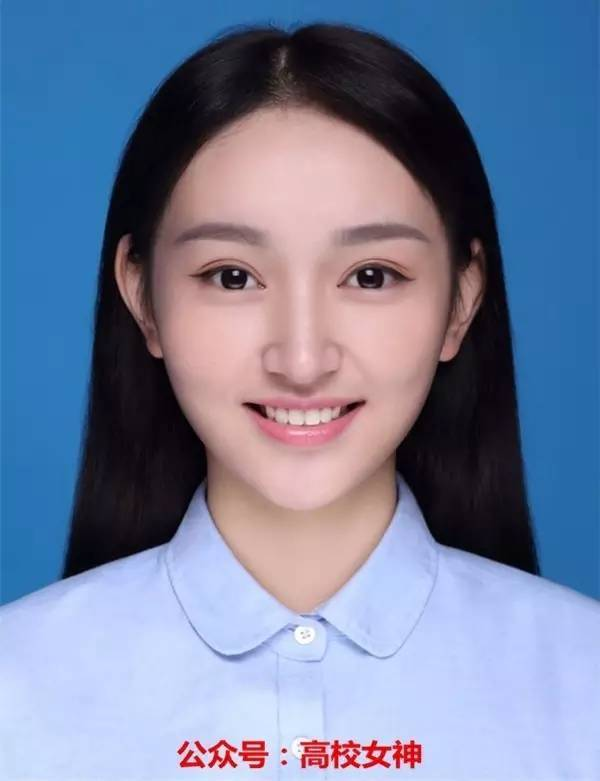unmask: (156, 130, 455, 490)
